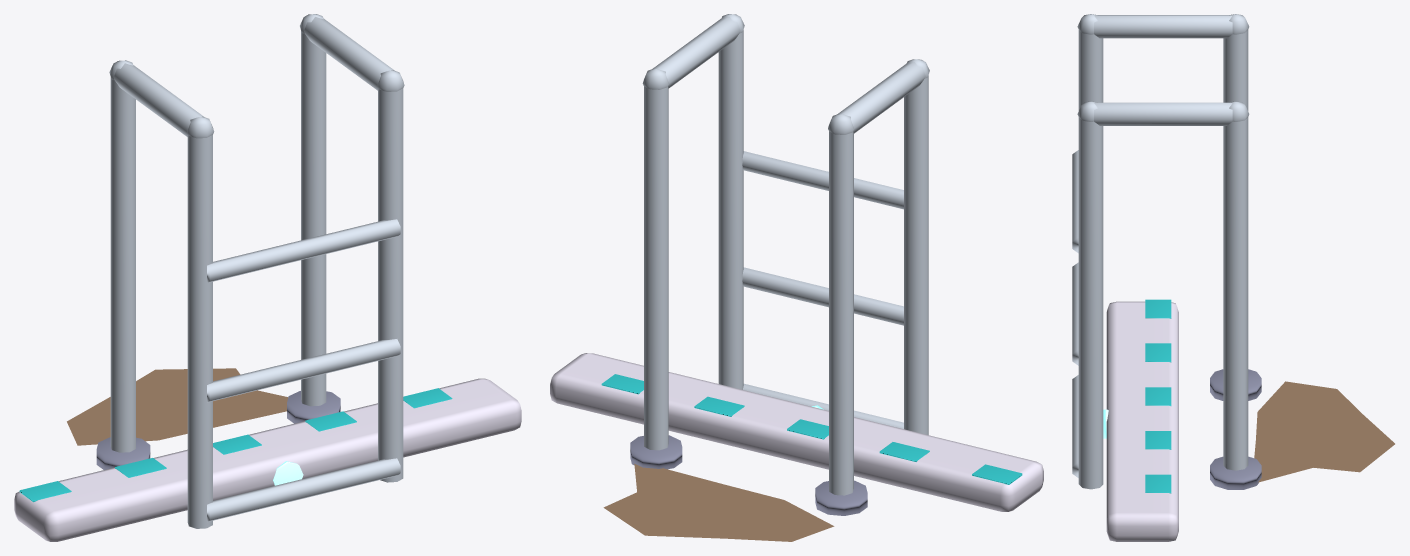
Rendered from pool_ladder.glb.
The picture shows the model from 3 angles, left to right: view 1: azimuth 30°, elevation 25°; view 2: azimuth 150°, elevation 25°; view 3: azimuth 270°, elevation 25°; orthographic projection. The views are drawn at different scales.
Visible parts, largest first — view 1: Ladder; view 2: Ladder; view 3: Ladder.
Boxes of the visible parts, x1,y1,x2,y2 form: Ladder: (14, 14, 521, 541); Ladder: (550, 14, 1043, 541); Ladder: (1072, 14, 1394, 541).
Size of the model in its own units: 1 by 0.8164 by 0.6255.
